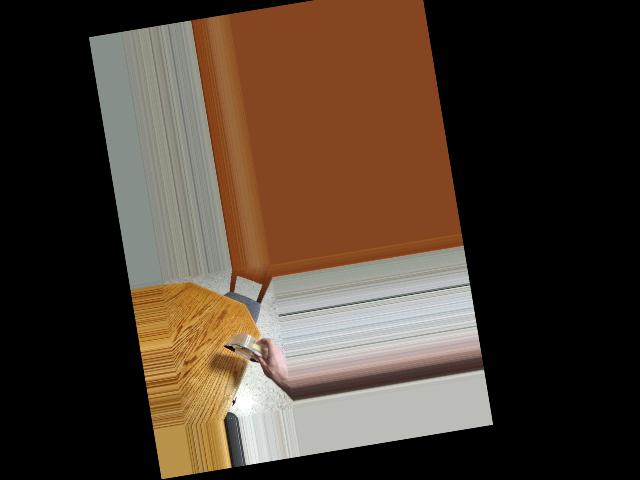cheese: (225, 323, 277, 382)
